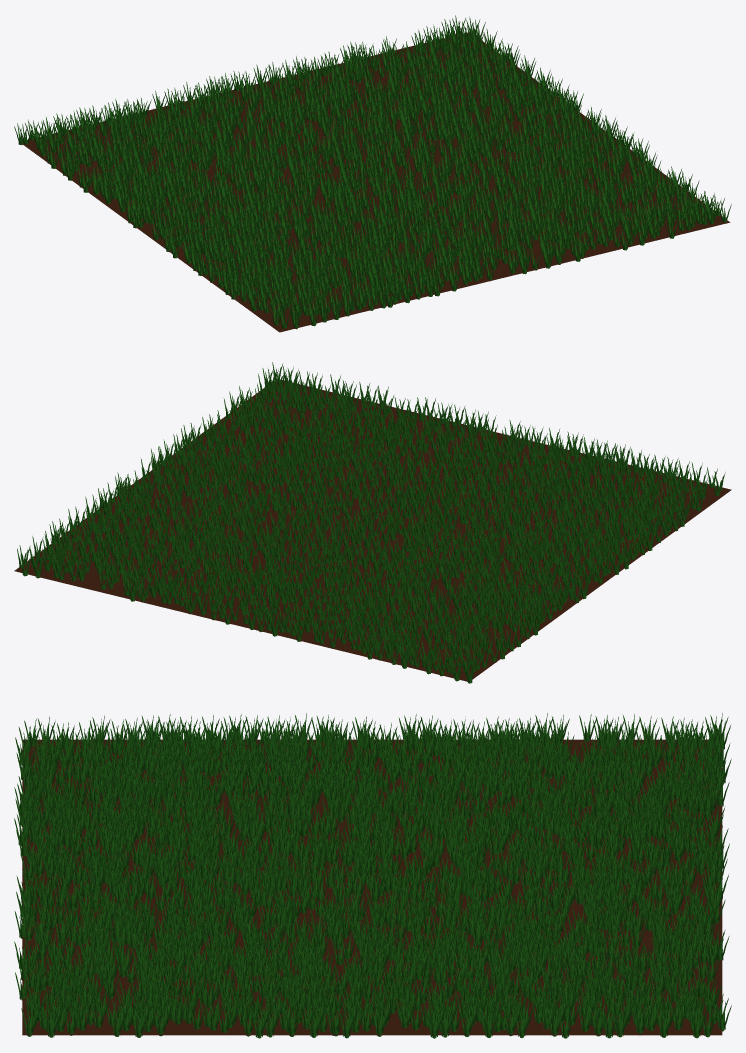
File: grass.fbx
3 renders of one model, top to bottom at view 1: azimuth 30°, elevation 25°; view 2: azimuth 150°, elevation 25°; view 3: azimuth 270°, elevation 25°, orthographic. The views are drawn at different scales.
Parts seen in each view (by area): view 1: Plane; view 2: Plane; view 3: Plane.
Part boxes in pixels (bbox=[...]): Plane: bbox=[22, 32, 730, 332]; Plane: bbox=[14, 379, 731, 681]; Plane: bbox=[22, 739, 722, 1035].
Size of the model in its own units: 2967 by 116 by 2968.
